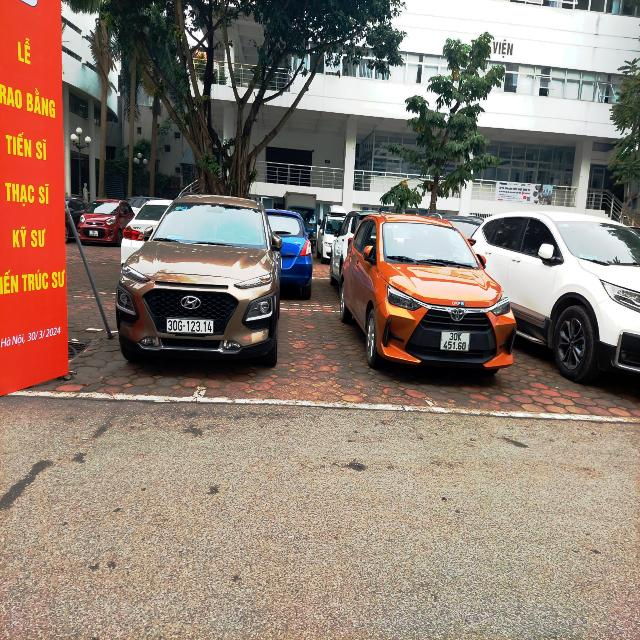license_plate: (168, 319, 214, 335), (442, 331, 472, 352)
